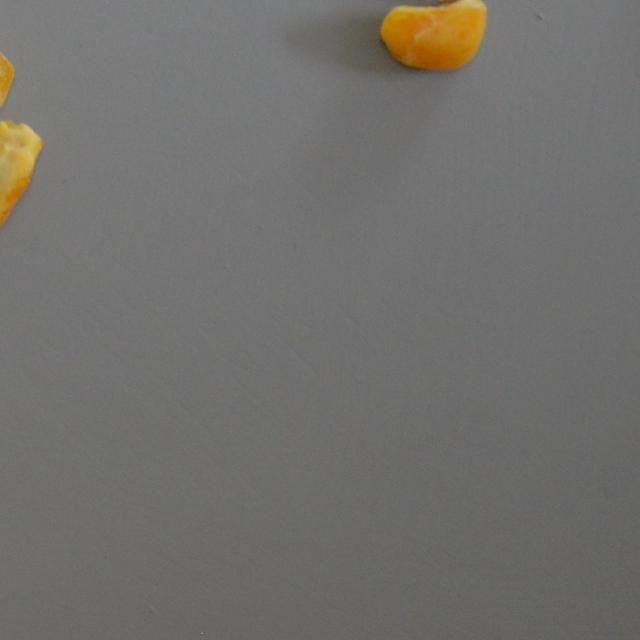pelicula: (374, 0, 490, 74), (0, 118, 42, 230), (0, 10, 16, 116)
